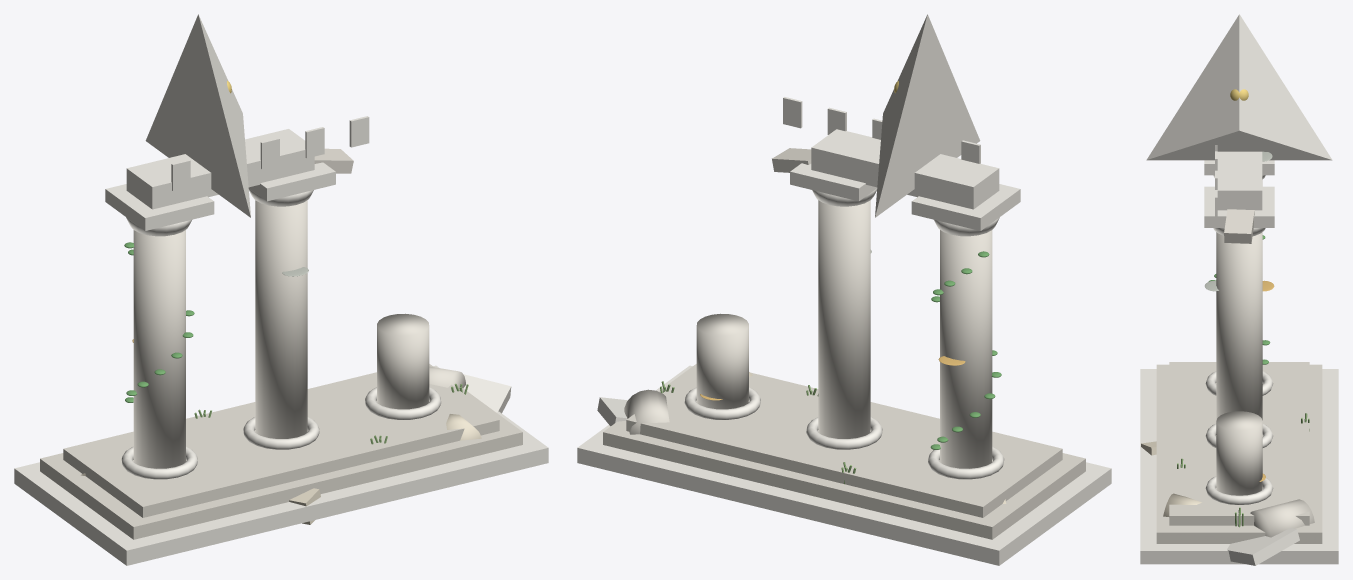
The model's file is ruin_doric_temple_facade.glb.
3 views of the same model, side by side, from view 1: azimuth 30°, elevation 25°; view 2: azimuth 150°, elevation 25°; view 3: azimuth 270°, elevation 25° (orthographic). The views are drawn at different scales.
Visible parts, largest first — view 1: Cube.002, Cube, Cylinder.001, Cylinder, Cube.001, Cone.002, Cube.006, Cylinder.002, Cube.003, Cube.004, Torus, Torus.001 (+3 smaller); view 2: Cube.002, Cube, Cylinder.001, Cylinder, Cube.001, Cone.002, Cube.006, Cylinder.002, Cube.003, Cube.004, Cylinder.003, Torus.001 (+3 smaller); view 3: Cube.002, Cone.002, Cube, Cylinder.001, Cube.001, Cylinder.002, Cube.006, Cube.005, Cylinder.003, Cube.004, Cube.007, Torus.002 (+4 smaller).
Part boxes in pixels (left/top/right/bottom): Cube.002: left=63, top=372, right=499, bottom=517; Cube: left=14, top=365, right=548, bottom=565; Cylinder.001: left=255, top=200, right=307, bottom=438; Cylinder: left=133, top=230, right=185, bottom=468; Cube.001: left=40, top=364, right=522, bottom=539; Cone.002: left=145, top=14, right=250, bottom=217; Cube.006: left=126, top=129, right=314, bottom=209; Cylinder.002: left=377, top=313, right=429, bottom=409; Cube.003: left=105, top=184, right=214, bottom=230; Cube.004: left=248, top=162, right=335, bottom=201; Torus: left=121, top=446, right=197, bottom=479; Torus.001: left=243, top=417, right=319, bottom=449; Cube.002: left=626, top=368, right=1062, bottom=517; Cube: left=577, top=365, right=1111, bottom=565; Cylinder.001: left=818, top=200, right=870, bottom=438; Cylinder: left=940, top=230, right=992, bottom=468; Cube.001: left=603, top=364, right=1085, bottom=539; Cone.002: left=875, top=14, right=980, bottom=217; Cube.006: left=811, top=129, right=999, bottom=209; Cylinder.002: left=696, top=313, right=748, bottom=409; Cube.003: left=911, top=184, right=1020, bottom=230; Cube.004: left=790, top=163, right=877, bottom=201; Cylinder.003: left=624, top=389, right=669, bottom=434; Torus.001: left=806, top=417, right=882, bottom=449; Cube.002: left=1169, top=362, right=1309, bottom=525; Cone.002: left=1146, top=14, right=1332, bottom=160; Cube: left=1140, top=369, right=1338, bottom=564; Cylinder.001: left=1216, top=232, right=1262, bottom=420; Cube.001: left=1156, top=364, right=1322, bottom=543; Cylinder.002: left=1216, top=411, right=1262, bottom=495; Cube.006: left=1217, top=151, right=1262, bottom=210; Cube.005: left=1227, top=528, right=1299, bottom=565; Cylinder.003: left=1250, top=499, right=1314, bottom=537; Cube.004: left=1204, top=186, right=1274, bottom=227; Cube.007: left=1224, top=209, right=1254, bottom=243; Torus.002: left=1205, top=476, right=1273, bottom=504.
Size of the model in its own units: 5.53 by 5.8 by 2.4.
